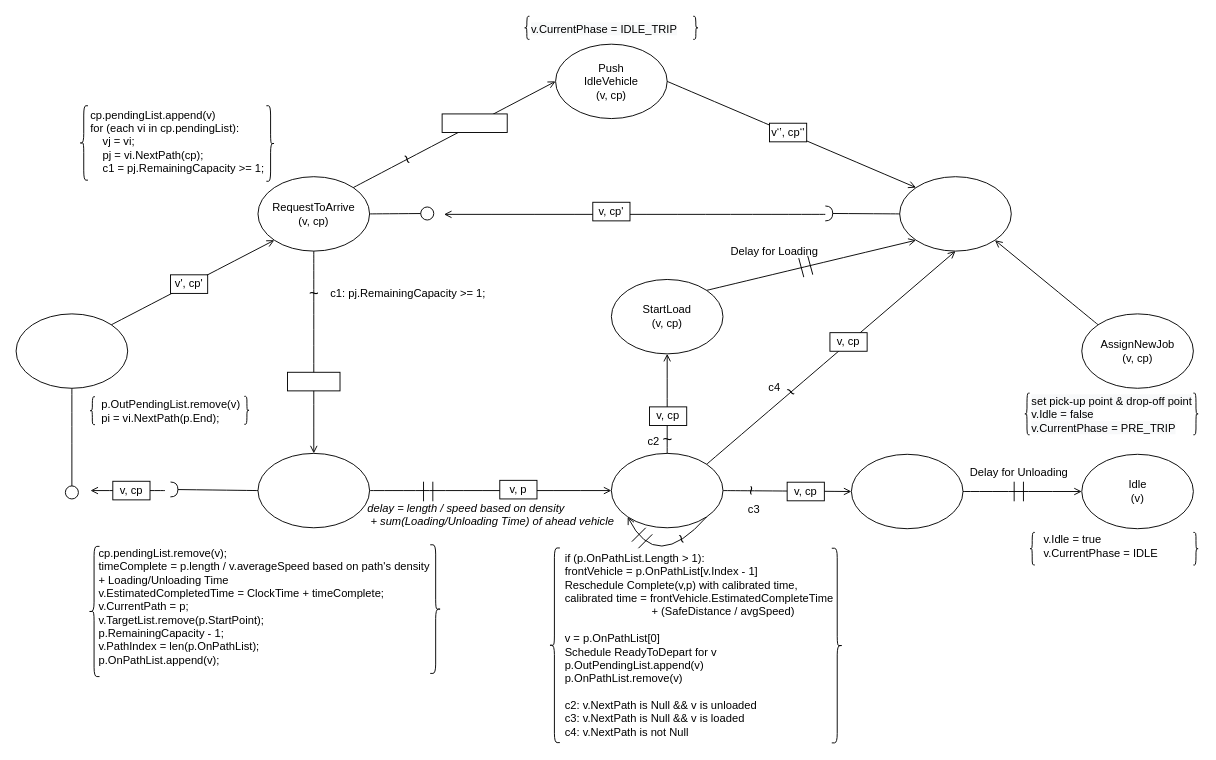
This 1216x760 diagram has some shape labels left out. Each missing label, with the centre of its shape:
"Arrive (v, p, cp)" belongs at pixel 313 490.
"Depart (v, p, cp)" belongs at pixel 71 350.
"ReadyToDepart (v, cp)" belongs at pixel 955 213.
"StartUnload (v, cp)" belongs at pixel 906 491.
"TravelComplete (v, p)" belongs at pixel 666 490.
"v'', {cp1, ...}" belongs at pixel 474 123.
"vj, pj, cp" belongs at pixel 313 381.
